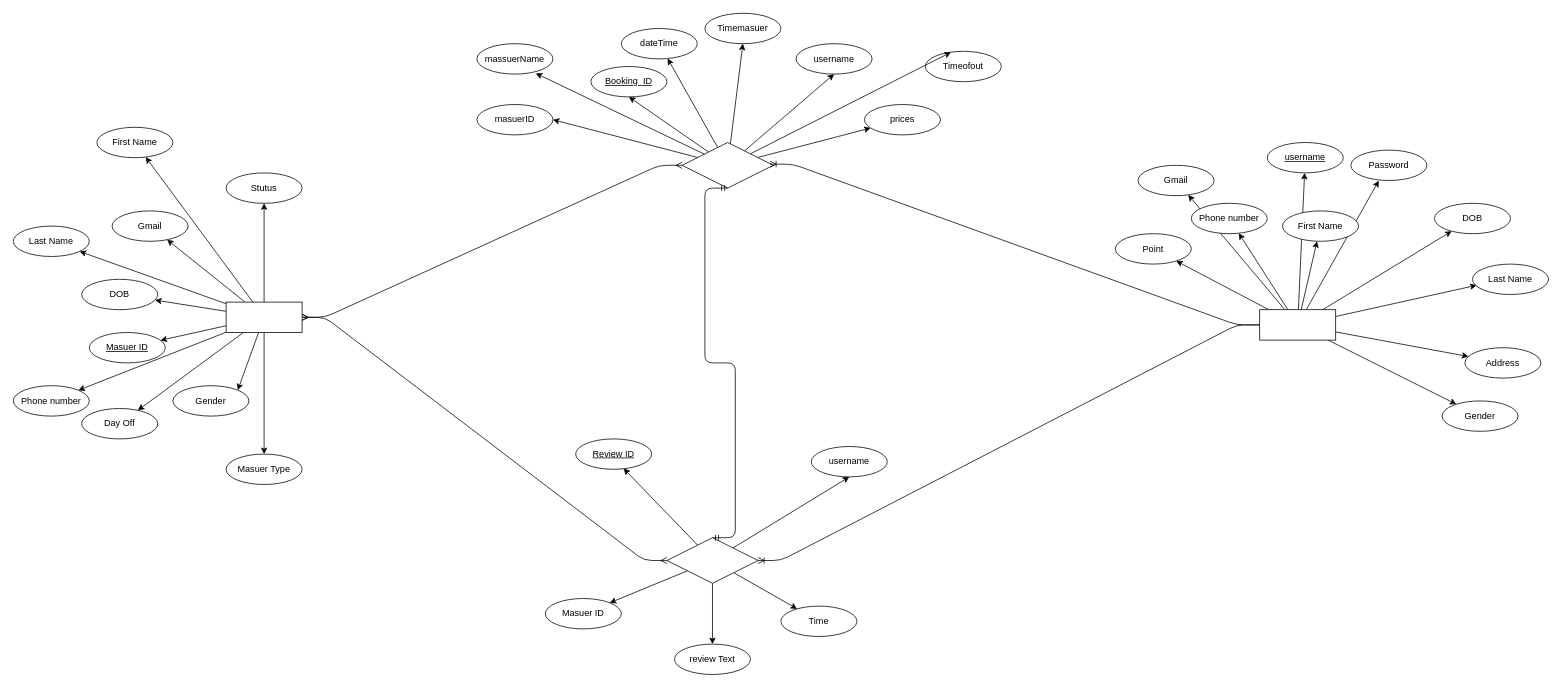
This 1562x688 diagram has some shape labels left out. Each missing label, with the centre of its shape:
Booing: (x=727, y=165)
Customer: (x=1297, y=324)
Masuer: (x=263, y=316)
Rreview: (x=712, y=560)
